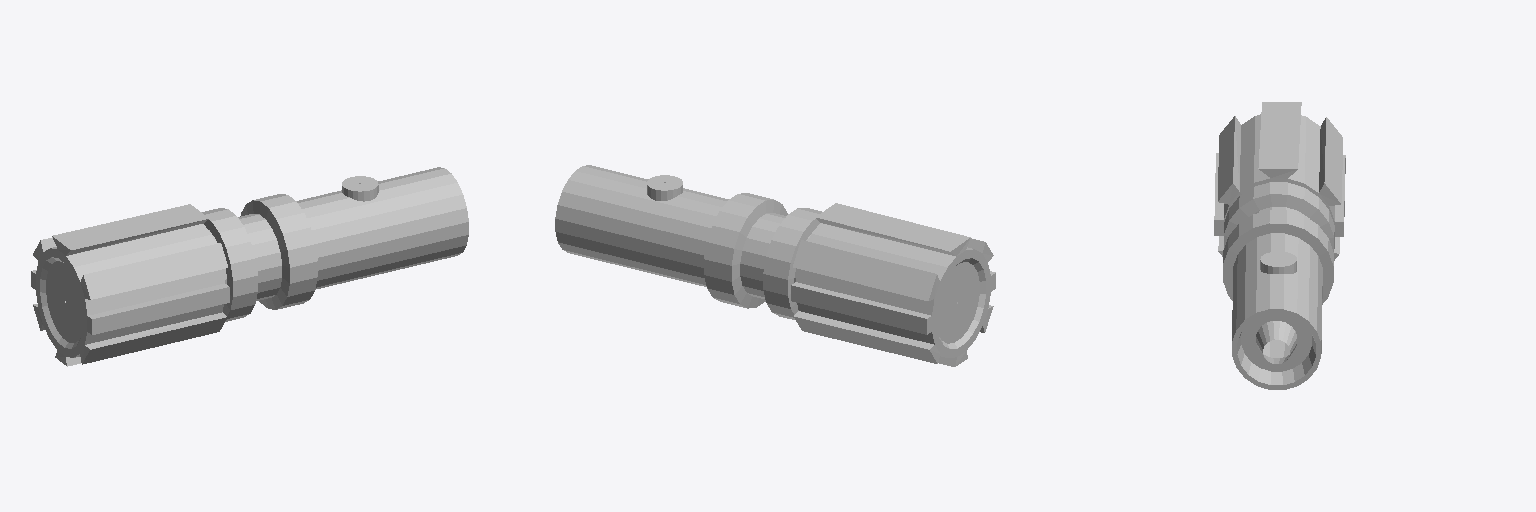
The model's file is LightSaber.obj.
The picture shows the model from 3 angles: view 1: azimuth 30°, elevation 25°; view 2: azimuth 150°, elevation 25°; view 3: azimuth 270°, elevation 25°; orthographic projection.
Parts seen in each view (by area): view 1: pCylinder3; view 2: pCylinder3; view 3: pCylinder3.
Part boxes in pixels (x1,y1,x2,y2): pCylinder3: (31,167,468,366); pCylinder3: (555,165,995,366); pCylinder3: (1214,102,1345,389).
Bounding box in the file's own units: 8.06 × 2.33 × 2.34.